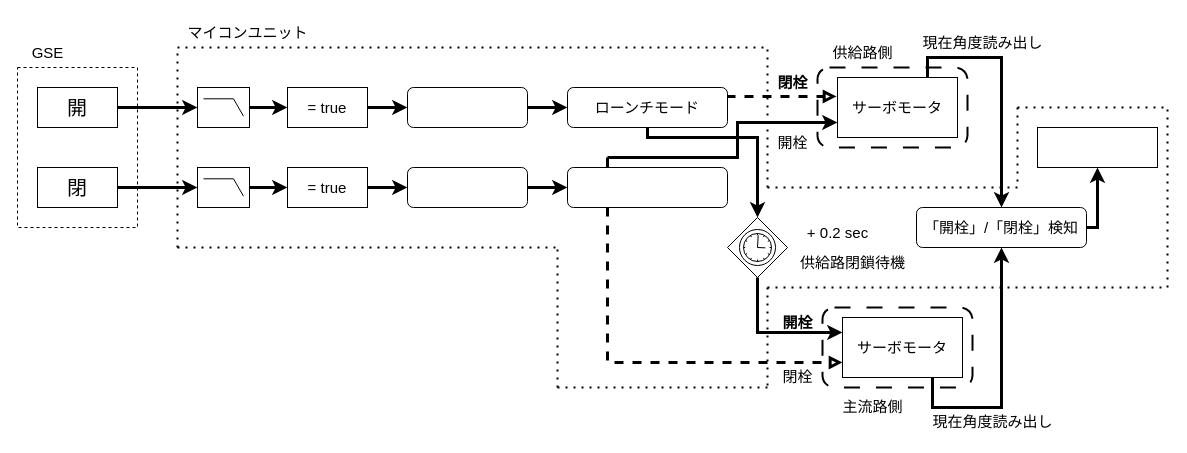
The diagram is 1187 pixels wide and 453 high, and some of its shapes have lost their labels. The shapes that lost their labels are listed below. From the top down, each one's box as (x1, y1, x2, y2) in pixels, then its label:
(406, 86, 528, 128): 「開」検知
(1036, 126, 1158, 168): ブザー
(406, 166, 528, 208): 「閉」検知
(566, 166, 728, 208): ウェイティングモード
